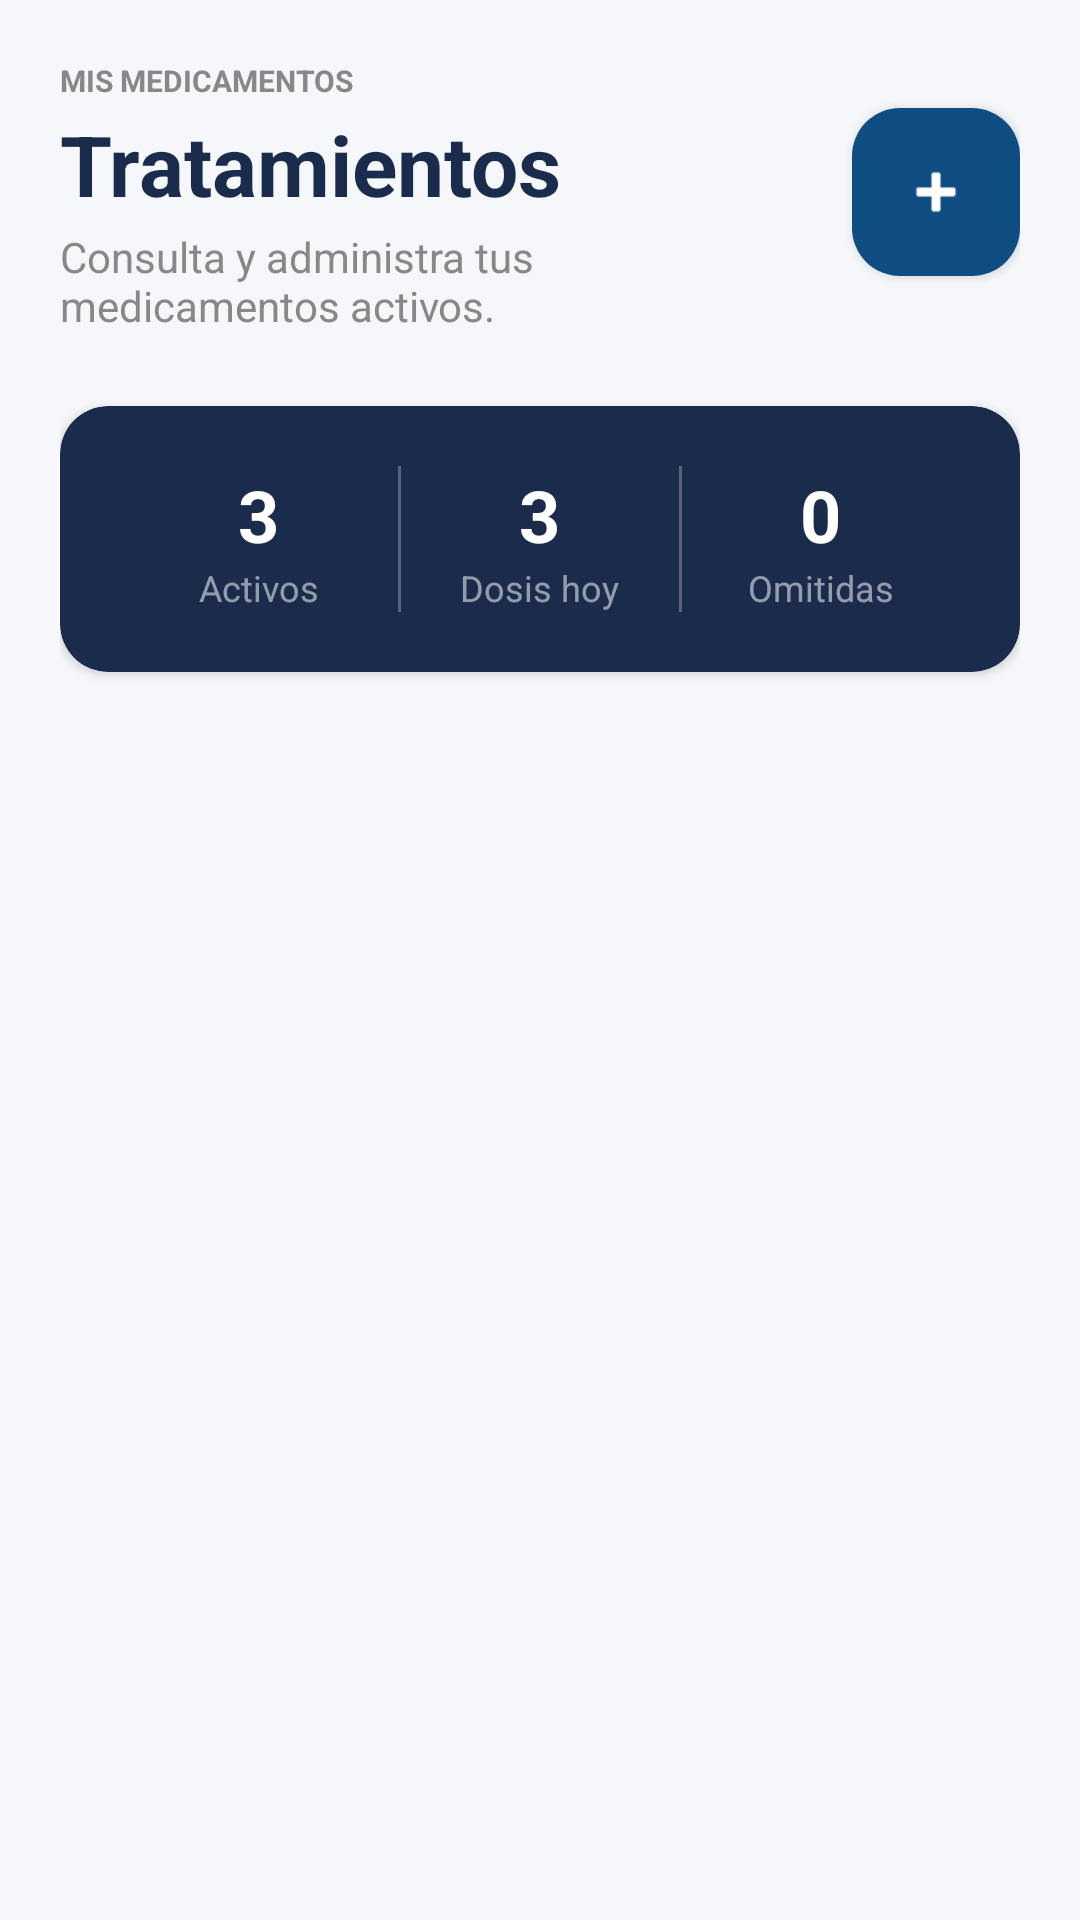

Icons on this 1080×1920 Android screen, each with its box as (x1, y1, x2, y2):
add: (852, 108, 1020, 276)
